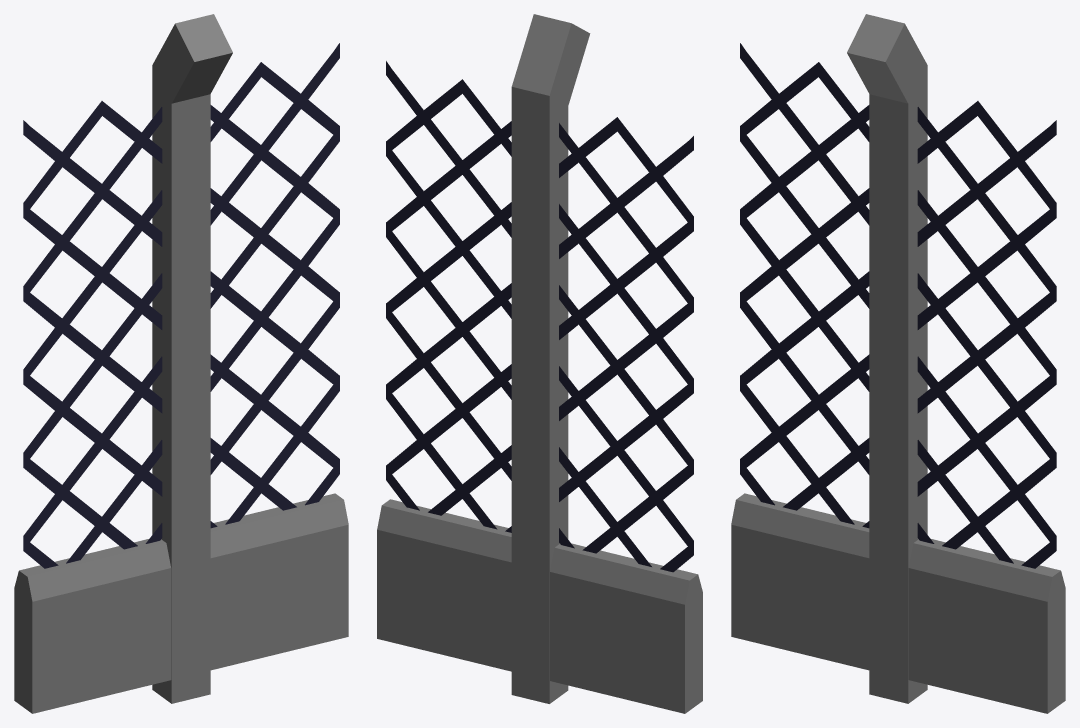
The model's file is PR_Wall.fbx.
3 views of the same model, side by side, from view 1: azimuth 30°, elevation 25°; view 2: azimuth 150°, elevation 25°; view 3: azimuth 330°, elevation 25° (orthographic). The views are drawn at different scales.
Visible parts, largest first — view 1: Fence_cage, Fence_cageEnd; view 2: Fence_cage, Fence_cageEnd; view 3: Fence_cage, Fence_cageEnd.
Boxes of the visible parts, left/top/right/bottom form: Fence_cage: left=14, top=43, right=348, bottom=713; Fence_cageEnd: left=152, top=14, right=232, bottom=703; Fence_cage: left=377, top=61, right=702, bottom=713; Fence_cageEnd: left=511, top=14, right=590, bottom=703; Fence_cage: left=731, top=43, right=1065, bottom=713; Fence_cageEnd: left=847, top=14, right=927, bottom=703.
Bounding box in the file's own units: 178 × 367 × 40.86.
